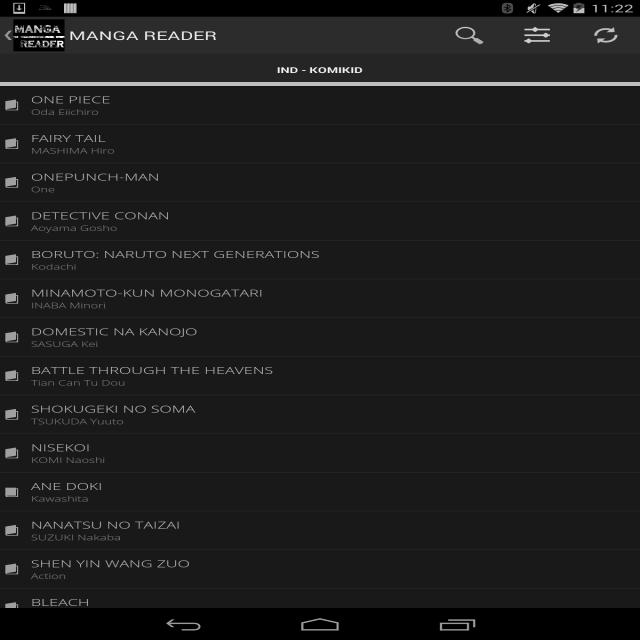ImageView: (435, 17, 504, 54), (14, 19, 64, 52), (5, 86, 18, 124), (5, 124, 18, 162), (5, 164, 18, 202), (5, 202, 18, 240), (5, 240, 18, 278), (5, 280, 18, 318), (5, 318, 18, 356), (5, 356, 18, 394), (5, 396, 18, 434), (5, 434, 18, 472), (5, 472, 18, 510), (5, 512, 18, 550), (5, 550, 18, 588), (5, 588, 18, 626), (0, 30, 17, 41)
TextView: (25, 85, 640, 106), (25, 124, 640, 145), (25, 201, 640, 222), (25, 240, 640, 261), (25, 317, 640, 338), (25, 356, 640, 377), (25, 433, 640, 454), (25, 472, 640, 493), (25, 549, 640, 570), (25, 588, 640, 609), (25, 163, 640, 183), (25, 279, 640, 299), (25, 395, 640, 415), (25, 511, 640, 531), (25, 183, 640, 201), (25, 299, 640, 317), (25, 415, 640, 433), (25, 531, 640, 549), (25, 106, 640, 123), (25, 145, 640, 162), (25, 222, 640, 239), (25, 261, 640, 278), (25, 338, 640, 355), (25, 377, 640, 394), (25, 454, 640, 471), (25, 493, 640, 510), (25, 570, 640, 587), (571, 16, 640, 54), (503, 17, 572, 54), (68, 27, 218, 43), (276, 64, 362, 76)
